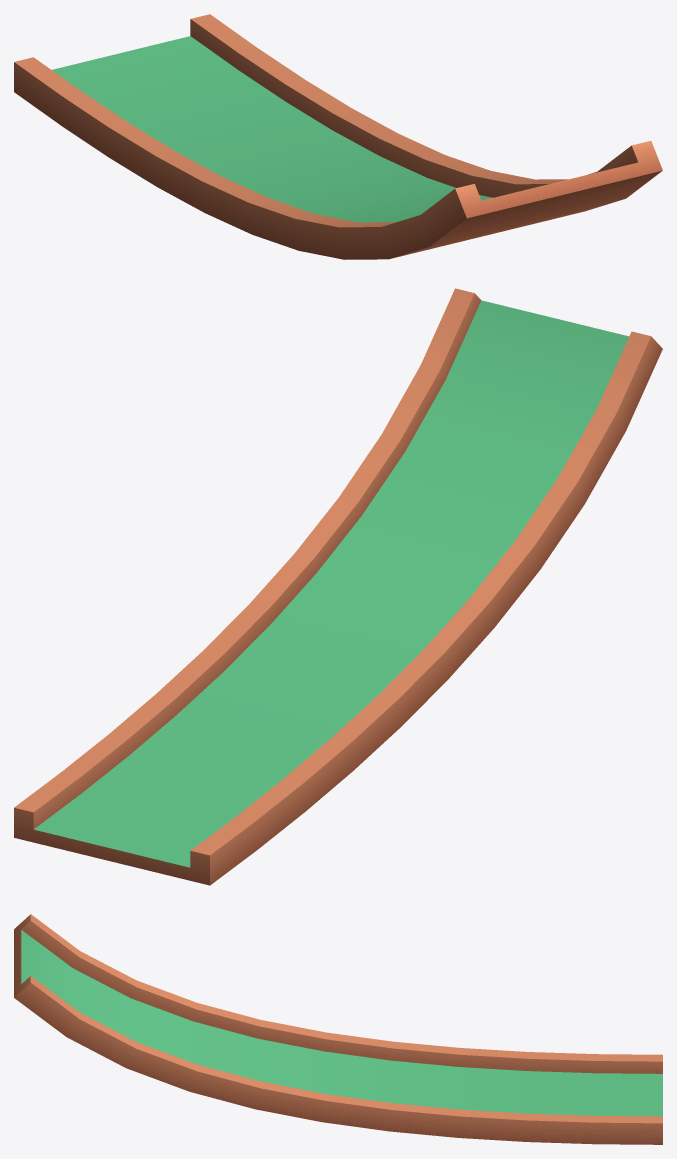
Rendered from spline-default-straight-hill-beginning.glb.
3 renders of one model, top to bottom at view 1: azimuth 30°, elevation 25°; view 2: azimuth 150°, elevation 25°; view 3: azimuth 270°, elevation 25°, orthographic. The views are drawn at different scales.
Parts seen in each view (by area): view 1: spline-default-straight-hill-beginning; view 2: spline-default-straight-hill-beginning; view 3: spline-default-straight-hill-beginning.
Boxes of the visible parts, box(x1,y1,x2,y2) form: spline-default-straight-hill-beginning: box(14, 14, 662, 259); spline-default-straight-hill-beginning: box(14, 288, 662, 885); spline-default-straight-hill-beginning: box(14, 914, 662, 1144).
Bounding box in the file's own units: 0.9999 × 1.1 × 4.
Materials: 1 (1 with a texture image).
